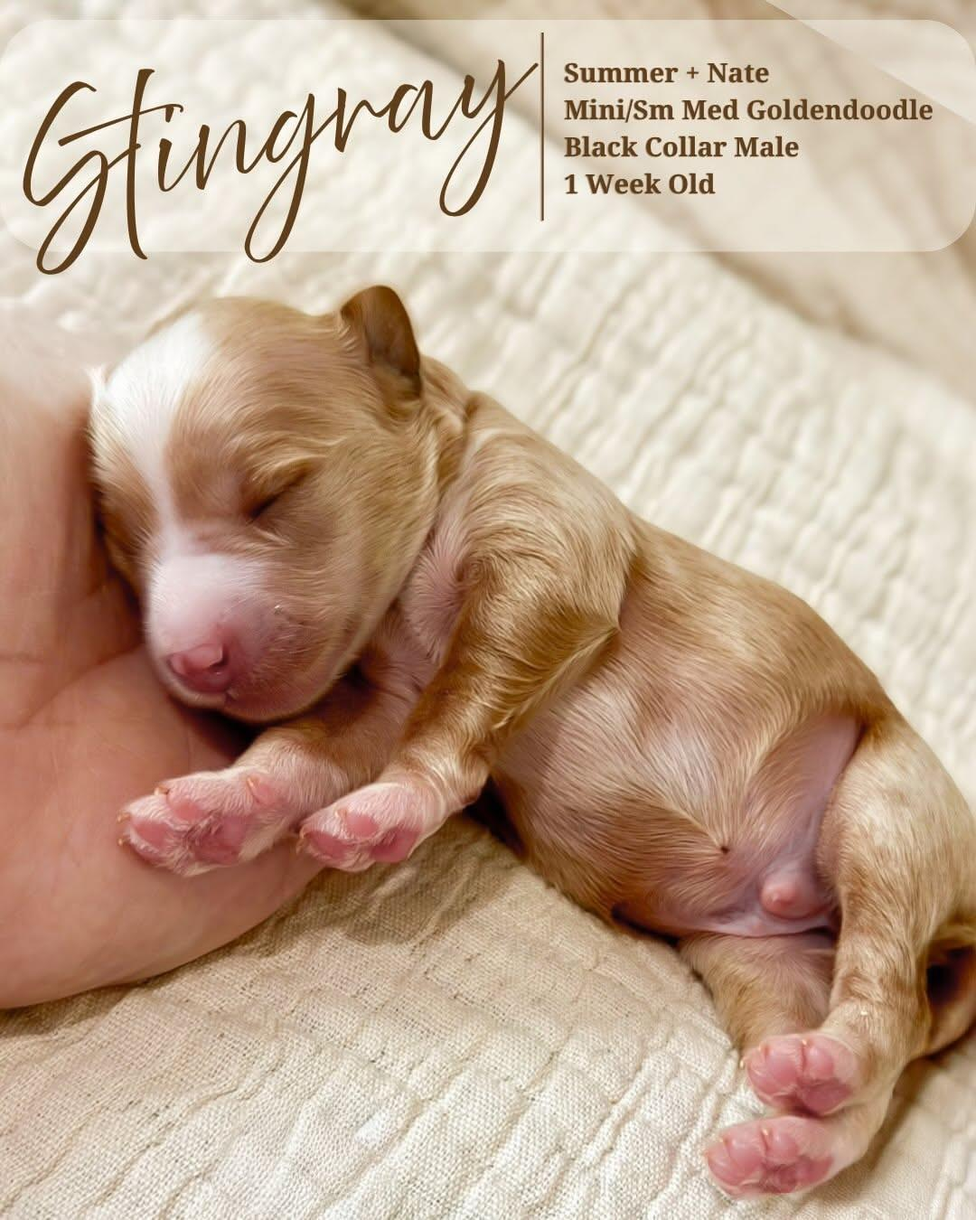puppy-dog: (83, 279, 976, 1200)
